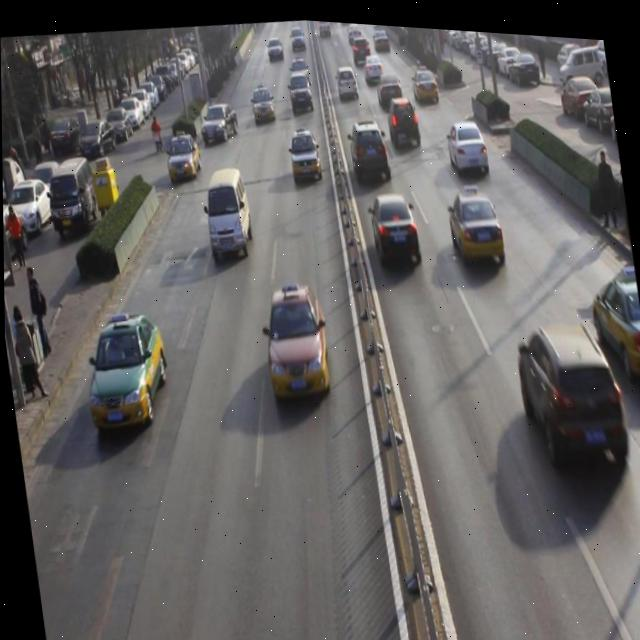car: (513, 306, 632, 474), (81, 310, 174, 436), (260, 279, 333, 399), (586, 260, 640, 387), (445, 176, 508, 267), (362, 180, 421, 268), (444, 109, 490, 174), (345, 114, 390, 178), (161, 128, 204, 184), (384, 88, 422, 147), (286, 122, 322, 180), (196, 98, 240, 143), (286, 66, 314, 112), (410, 58, 438, 100), (249, 80, 276, 121), (376, 65, 402, 105), (334, 59, 359, 95), (362, 43, 384, 79), (287, 52, 310, 80)
truck: (200, 159, 255, 260)
